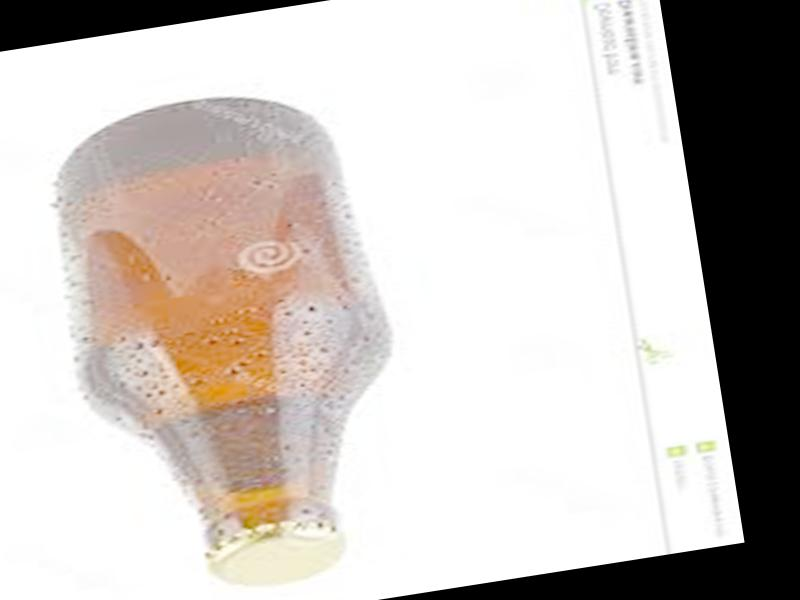Beer: (38, 77, 424, 600)
